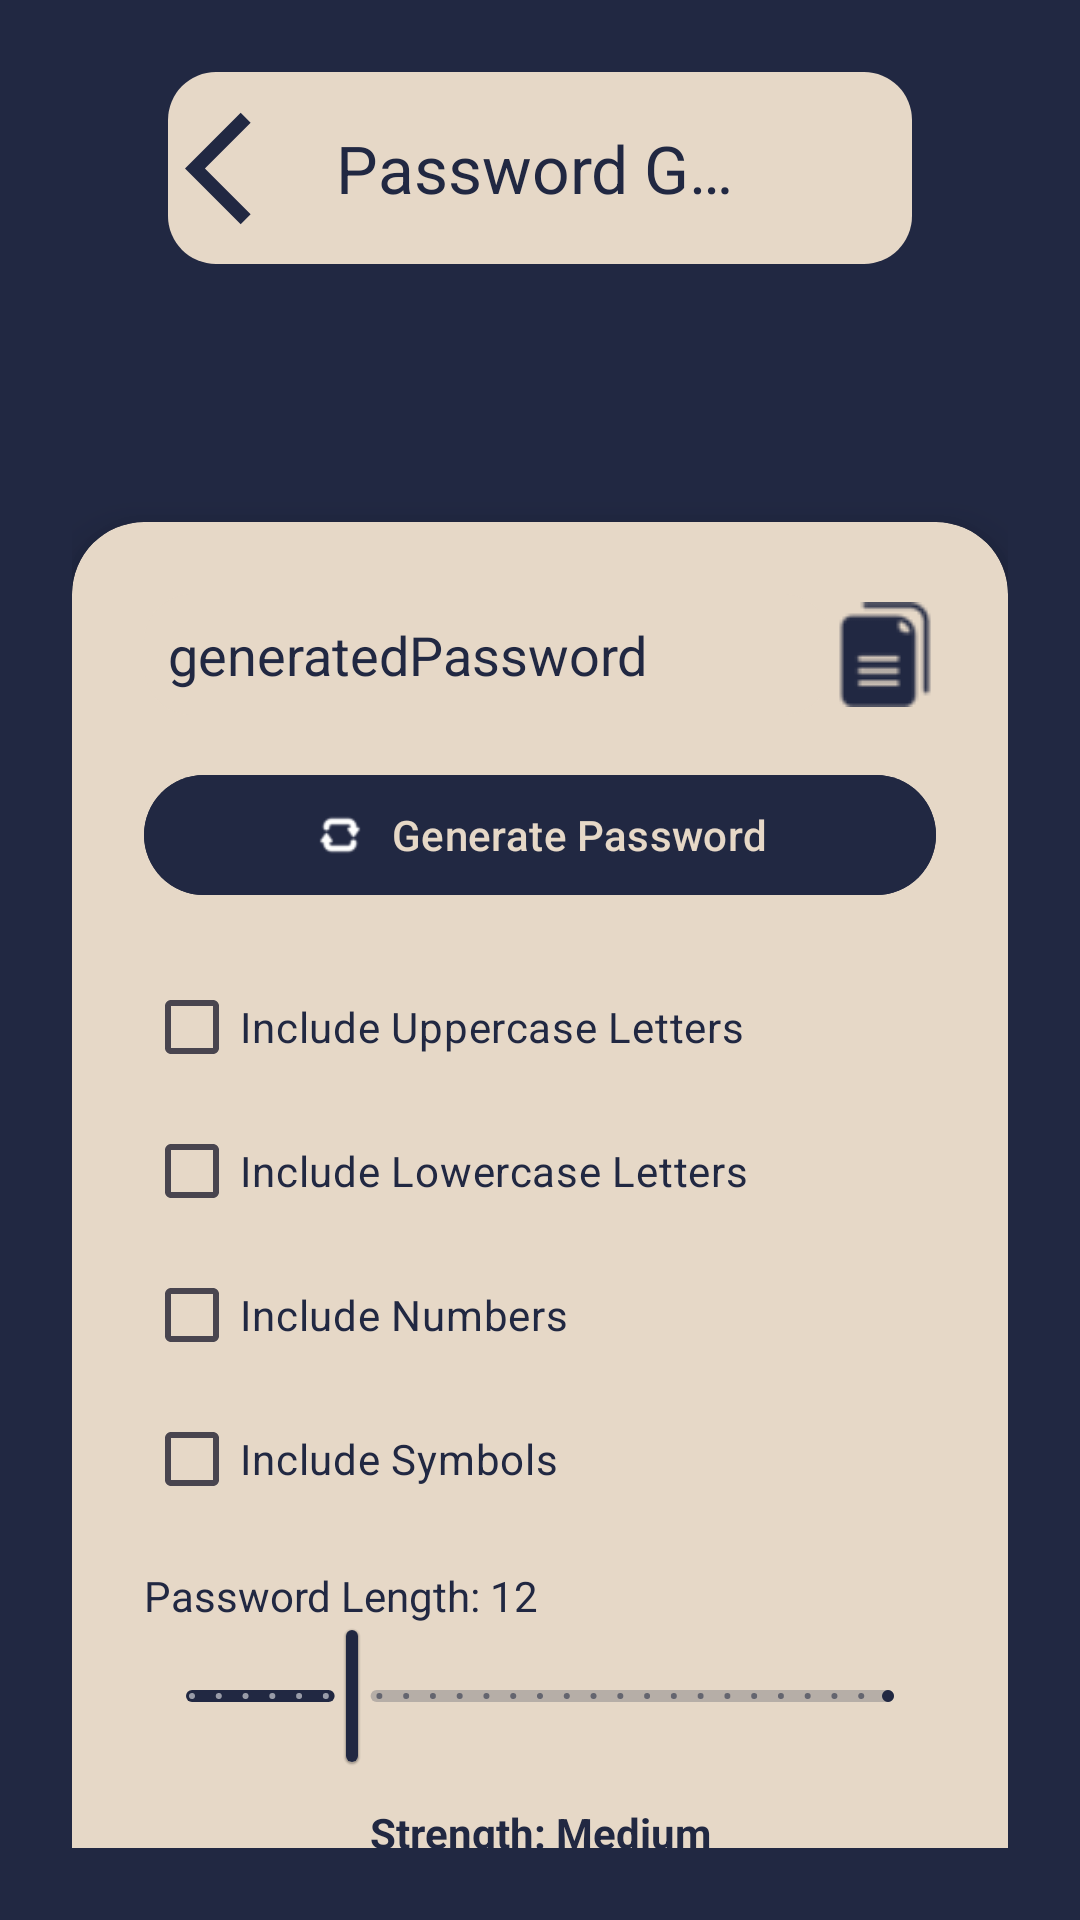

Where icons sit on this 1080 x 1920 app screen, as (x1, y1, x2, y2):
Copy Password: (839, 602, 931, 707)
